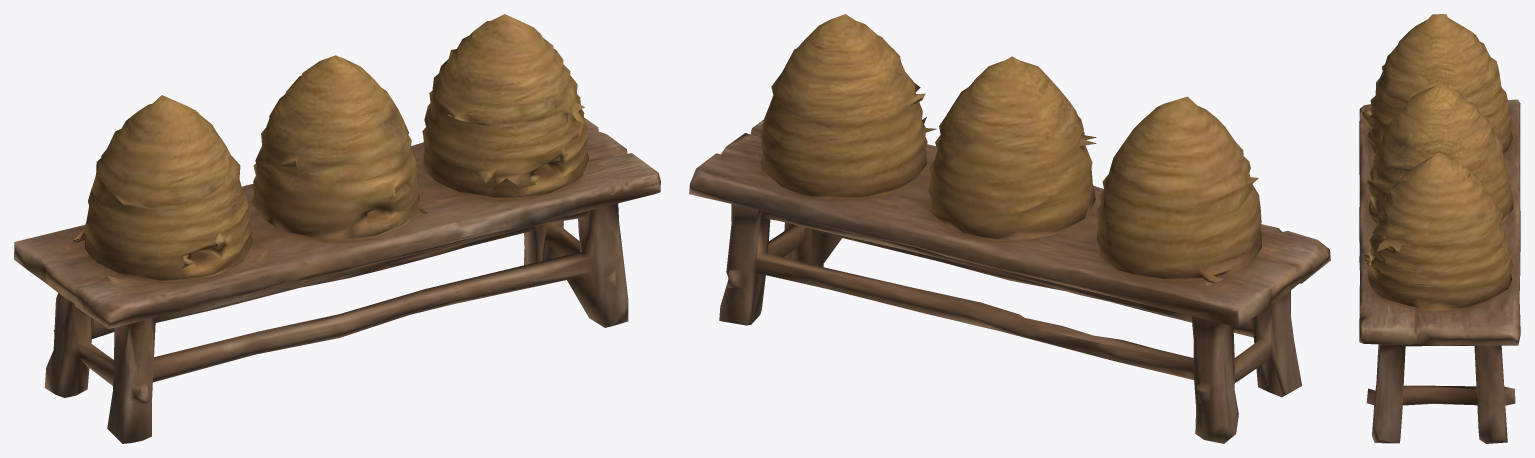
File: beehive_skeps.glb
3 renders of one model, left to right at view 1: azimuth 30°, elevation 25°; view 2: azimuth 150°, elevation 25°; view 3: azimuth 270°, elevation 25°, orthographic. The views are drawn at different scales.
Parts seen in each view (by area): view 1: tripo_node_e9a6eb31-4409-4d6b-b5fc-9112efee0e3e; view 2: tripo_node_e9a6eb31-4409-4d6b-b5fc-9112efee0e3e; view 3: tripo_node_e9a6eb31-4409-4d6b-b5fc-9112efee0e3e.
Part boxes in pixels (<box>): tripo_node_e9a6eb31-4409-4d6b-b5fc-9112efee0e3e: <box>14,14,660,443</box>; tripo_node_e9a6eb31-4409-4d6b-b5fc-9112efee0e3e: <box>689,14,1330,443</box>; tripo_node_e9a6eb31-4409-4d6b-b5fc-9112efee0e3e: <box>1359,14,1520,443</box>.
Size of the model in its own units: 0.9792 by 0.5057 by 0.2902.
1 material, 1 textured.
